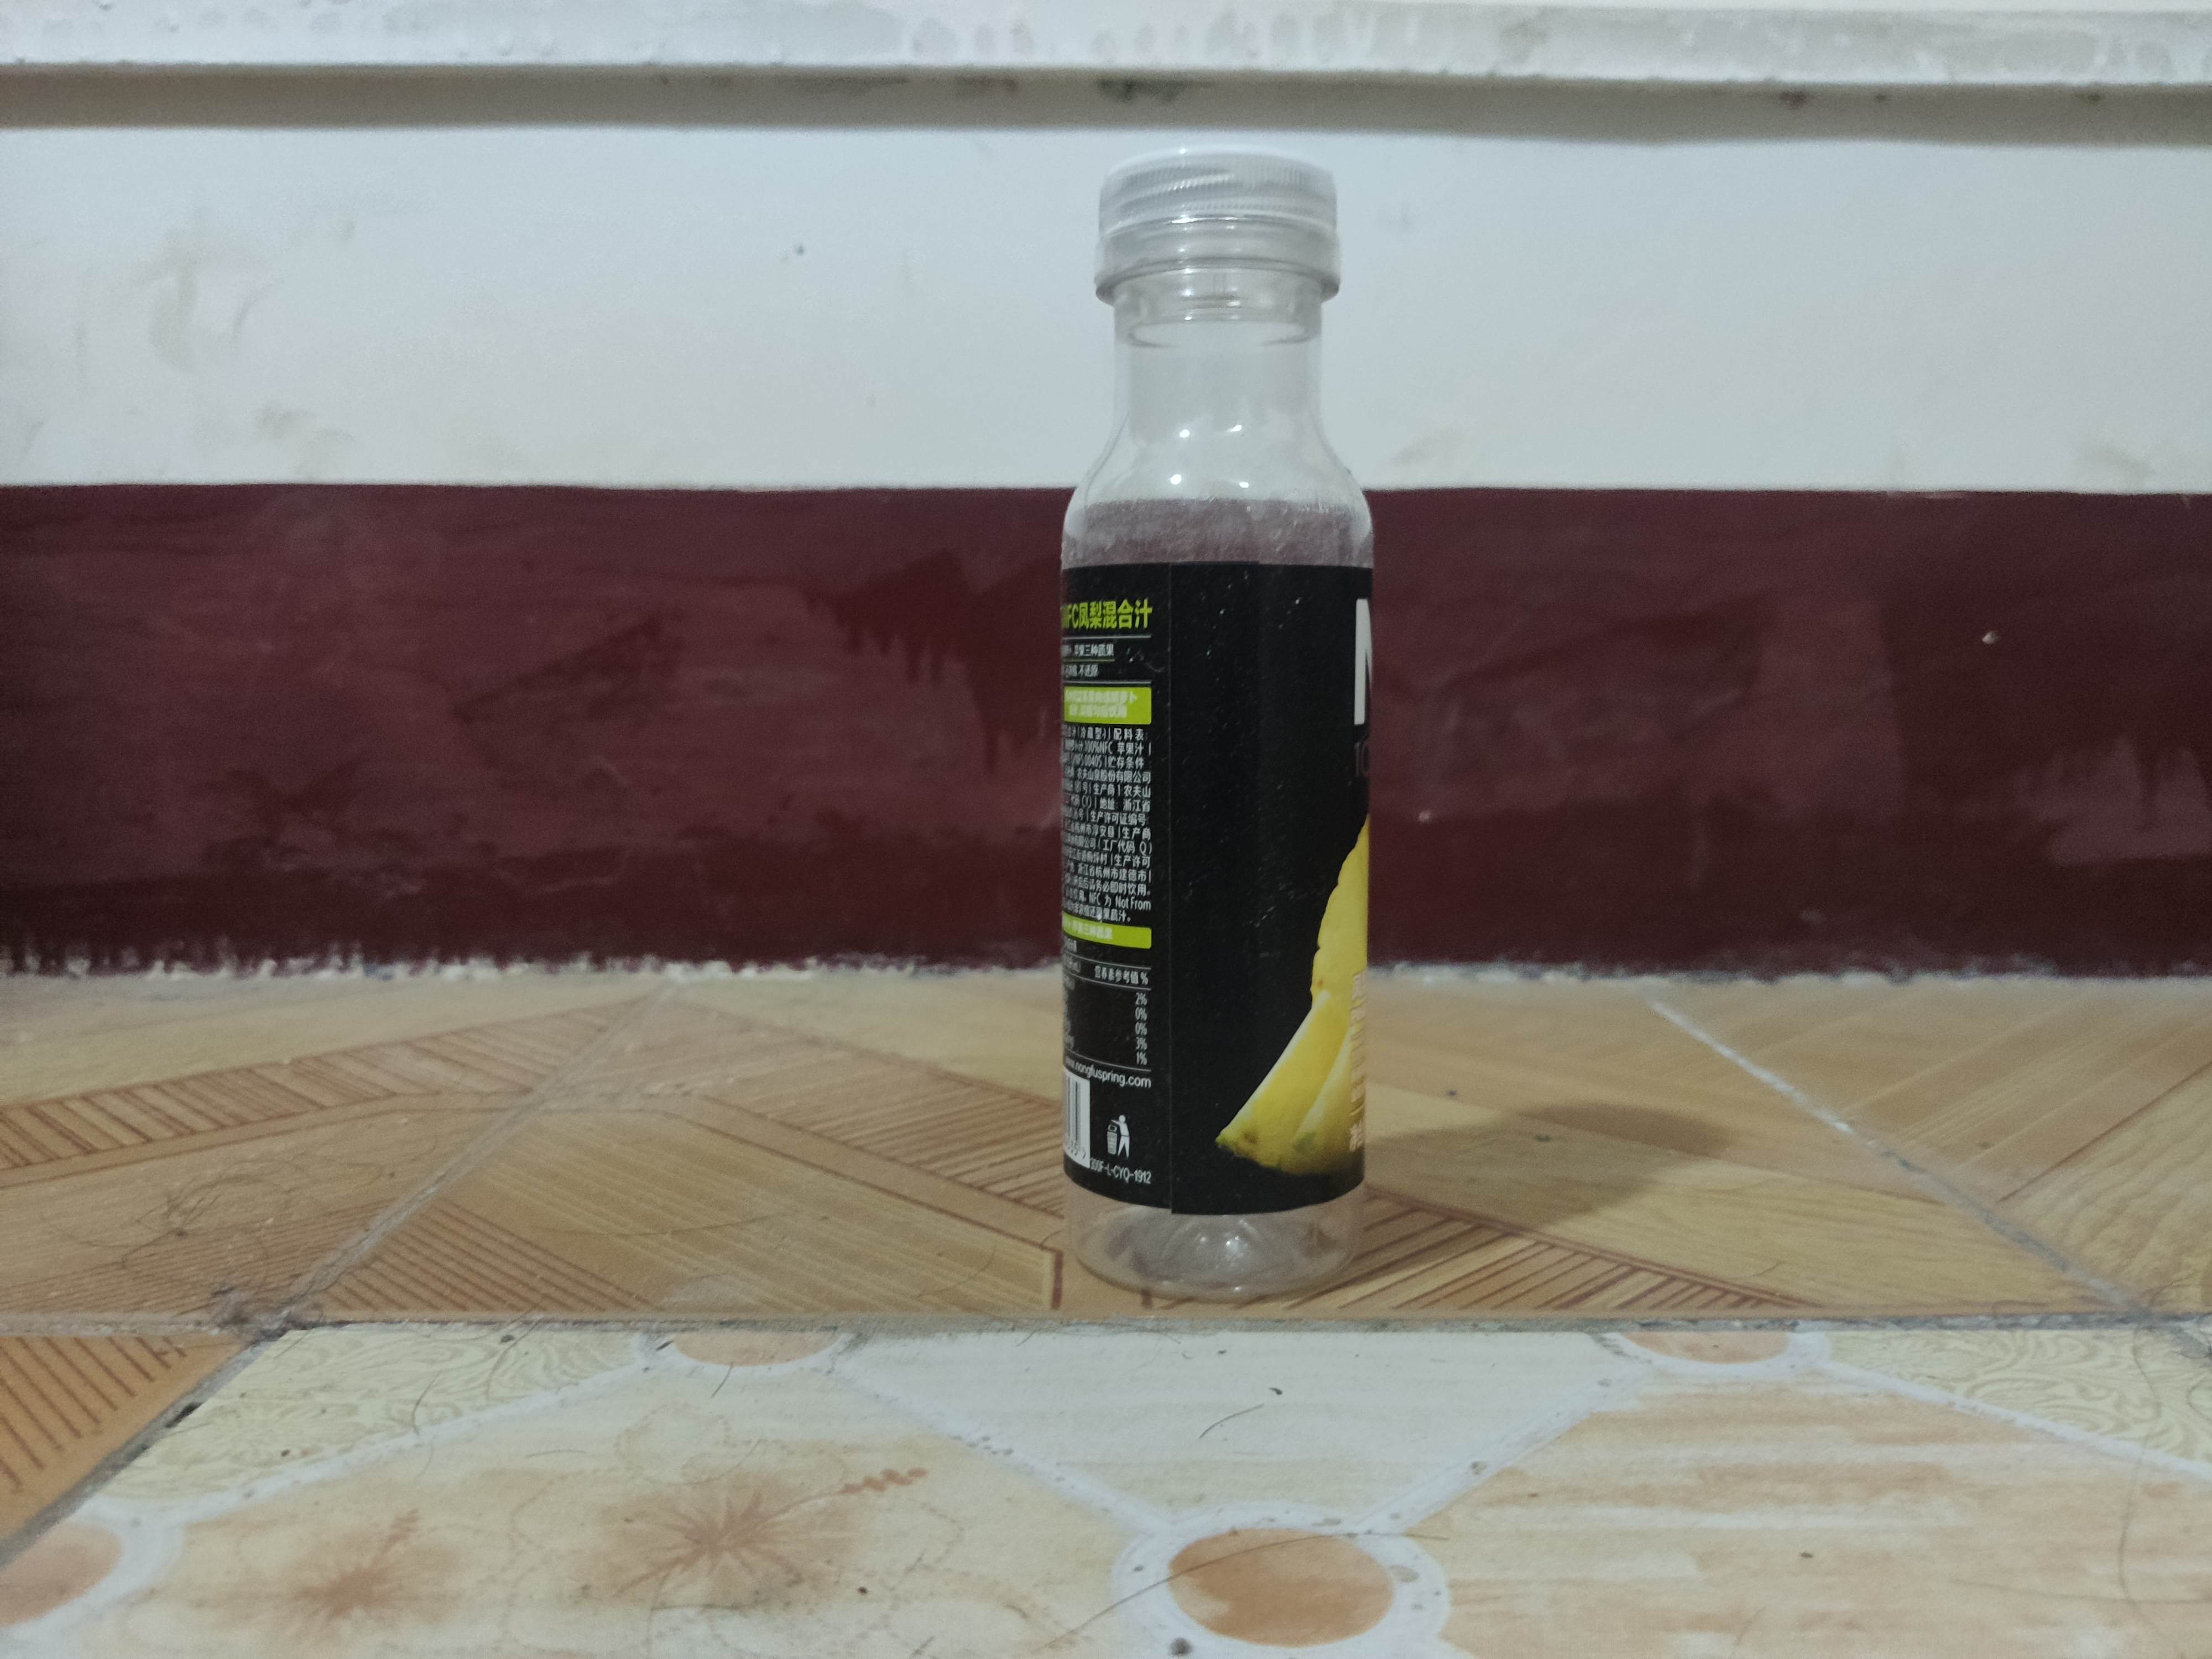Plastic Bottle: (1050, 145, 1386, 1309)
